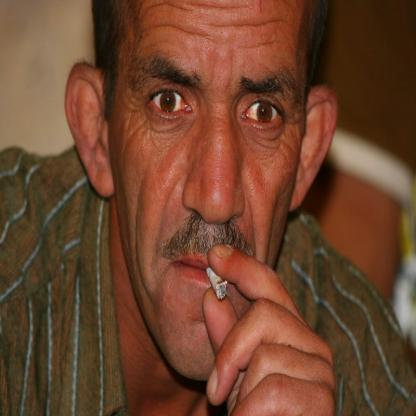smoking: (205, 264, 228, 299)
